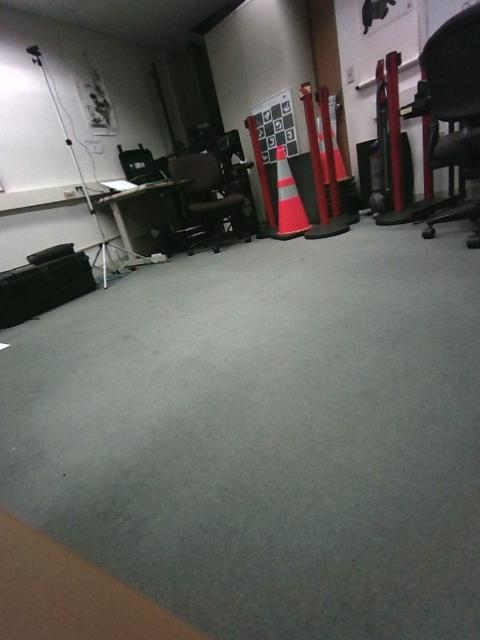block: (442, 236, 473, 261)
